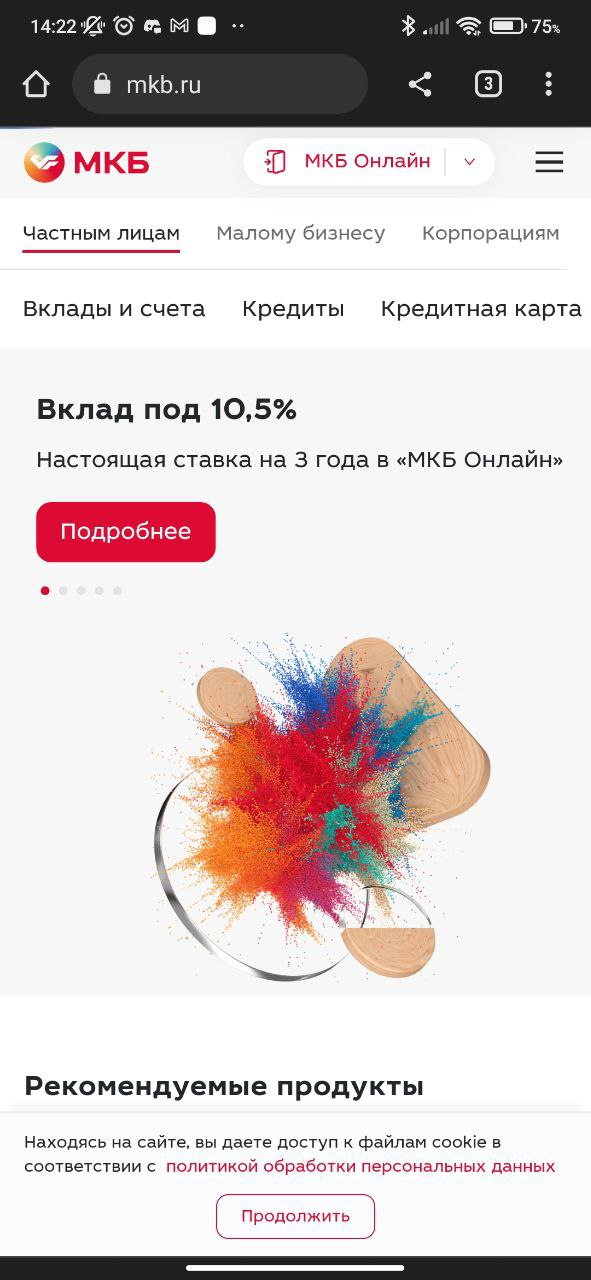burger_menu: (532, 145, 569, 177)
